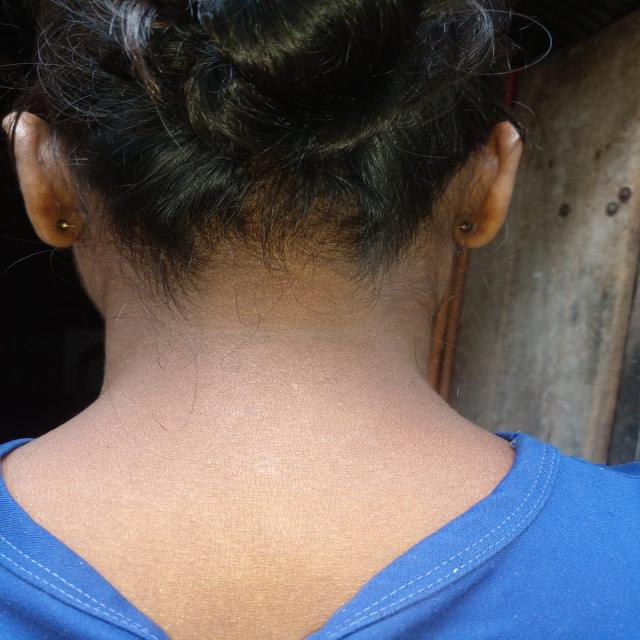Healthy: (39, 252, 500, 529)
